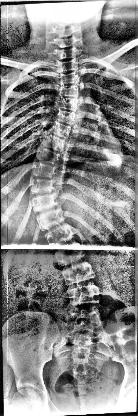Vertebrae: (60, 261, 98, 289), (53, 244, 89, 266), (70, 287, 102, 311), (46, 223, 76, 247), (36, 210, 66, 234), (29, 194, 59, 216), (35, 146, 63, 168), (27, 176, 57, 196), (43, 135, 69, 155), (54, 108, 76, 130), (30, 164, 57, 180), (59, 82, 82, 100), (58, 94, 78, 114), (50, 122, 72, 140), (57, 73, 80, 89)
